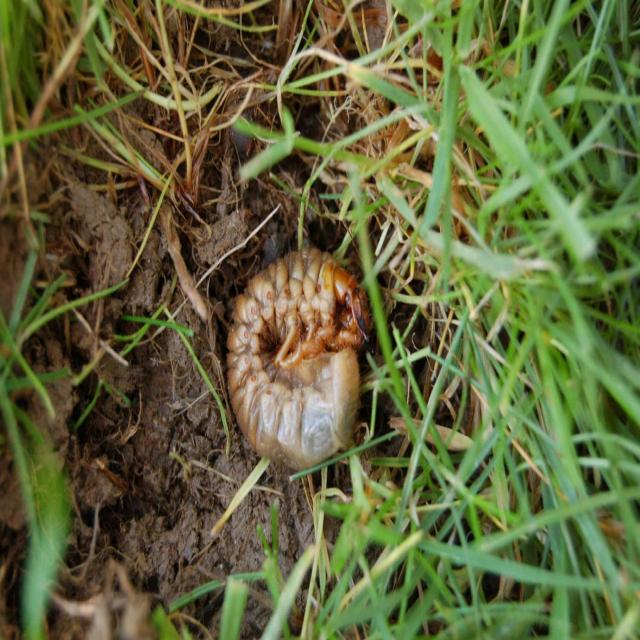Grub-Adult-: (181, 209, 388, 478)
